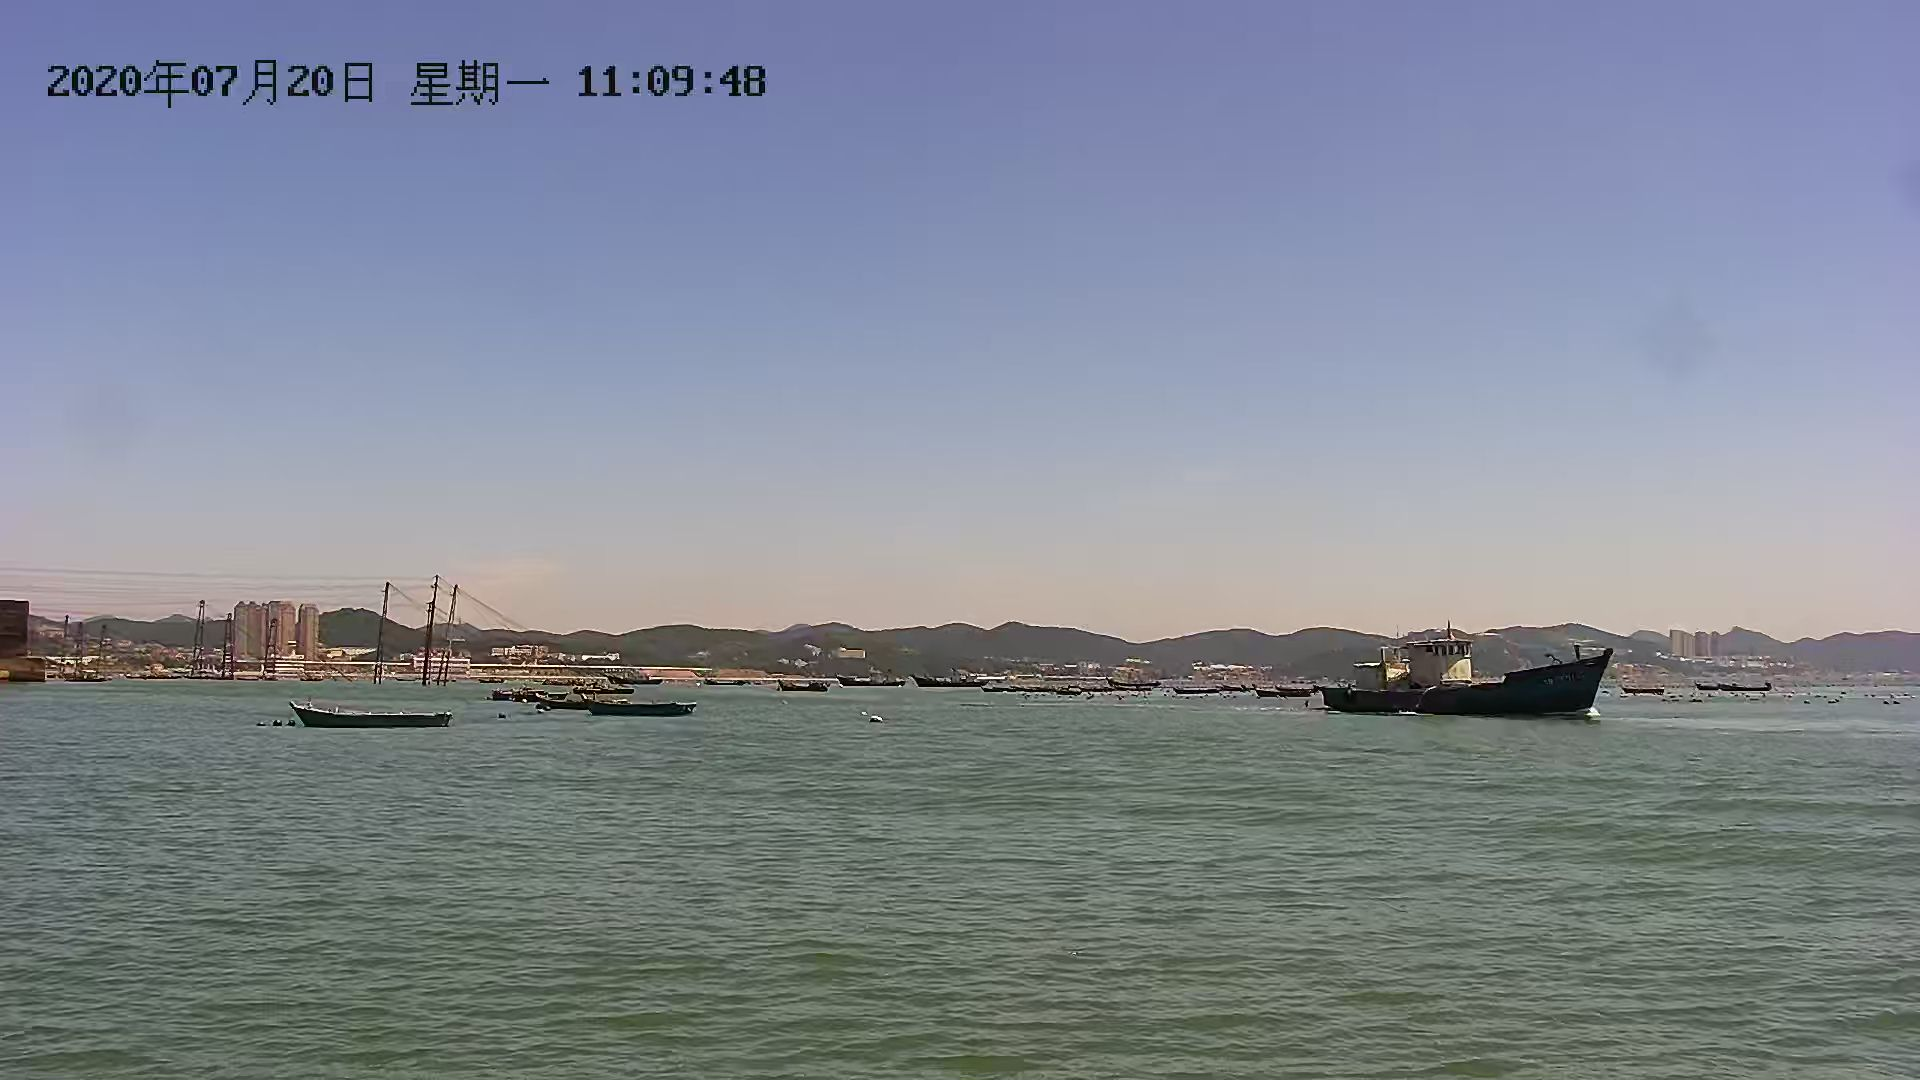boat: (291, 702, 458, 731), (500, 683, 621, 712), (580, 699, 702, 721)
ship: (1335, 636, 1618, 720)
